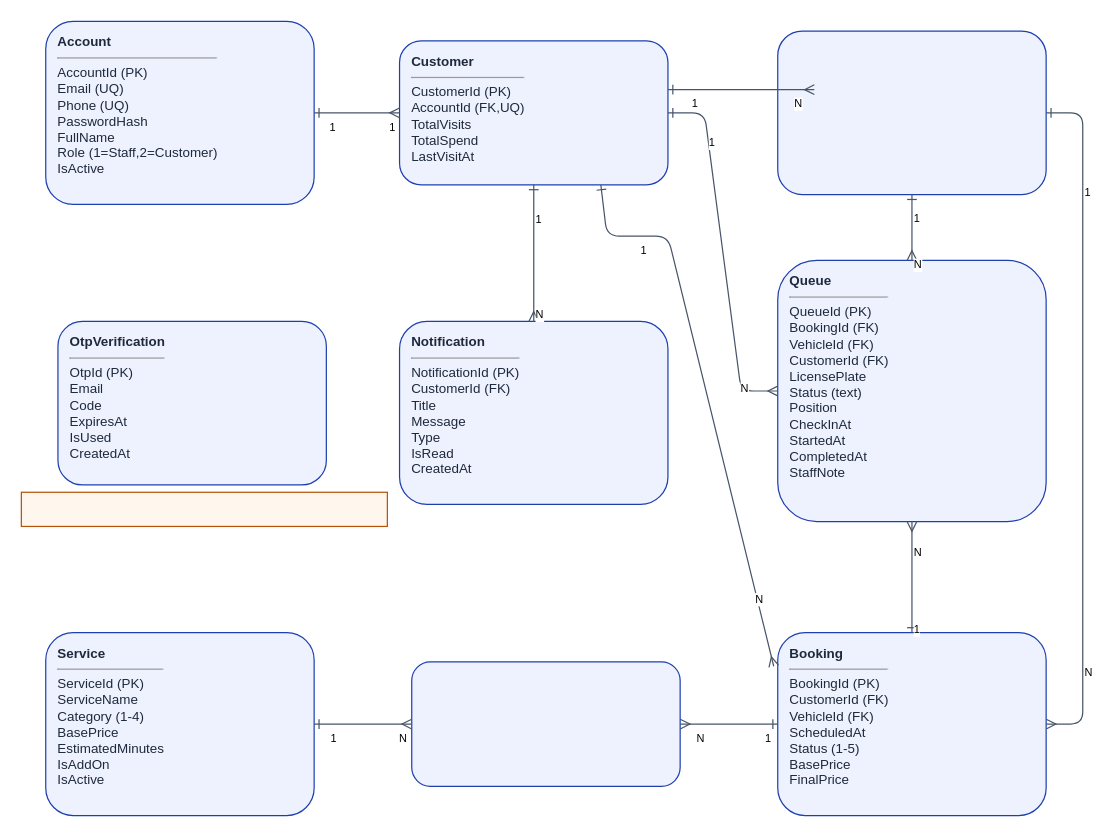
The diagram is 1115 pixels wide and 837 high, and some of its shapes have lost their labels. The shapes that lost their labels are listed below. From the top down, each one's centre as x and y in pixels, then its label:
the point at 911,112: Vehicle VehicleId (PK) CustomerId (FK) LicensePlate Brand Name RegisteredAt
the point at 203,508: OtpVerification: bảng tạm, đối chiếu qua Email, không khóa ngoại.
the point at 545,723: BookingService BookingServiceId (PK) BookingId (FK) ServiceId (FK) PriceSnapshot
